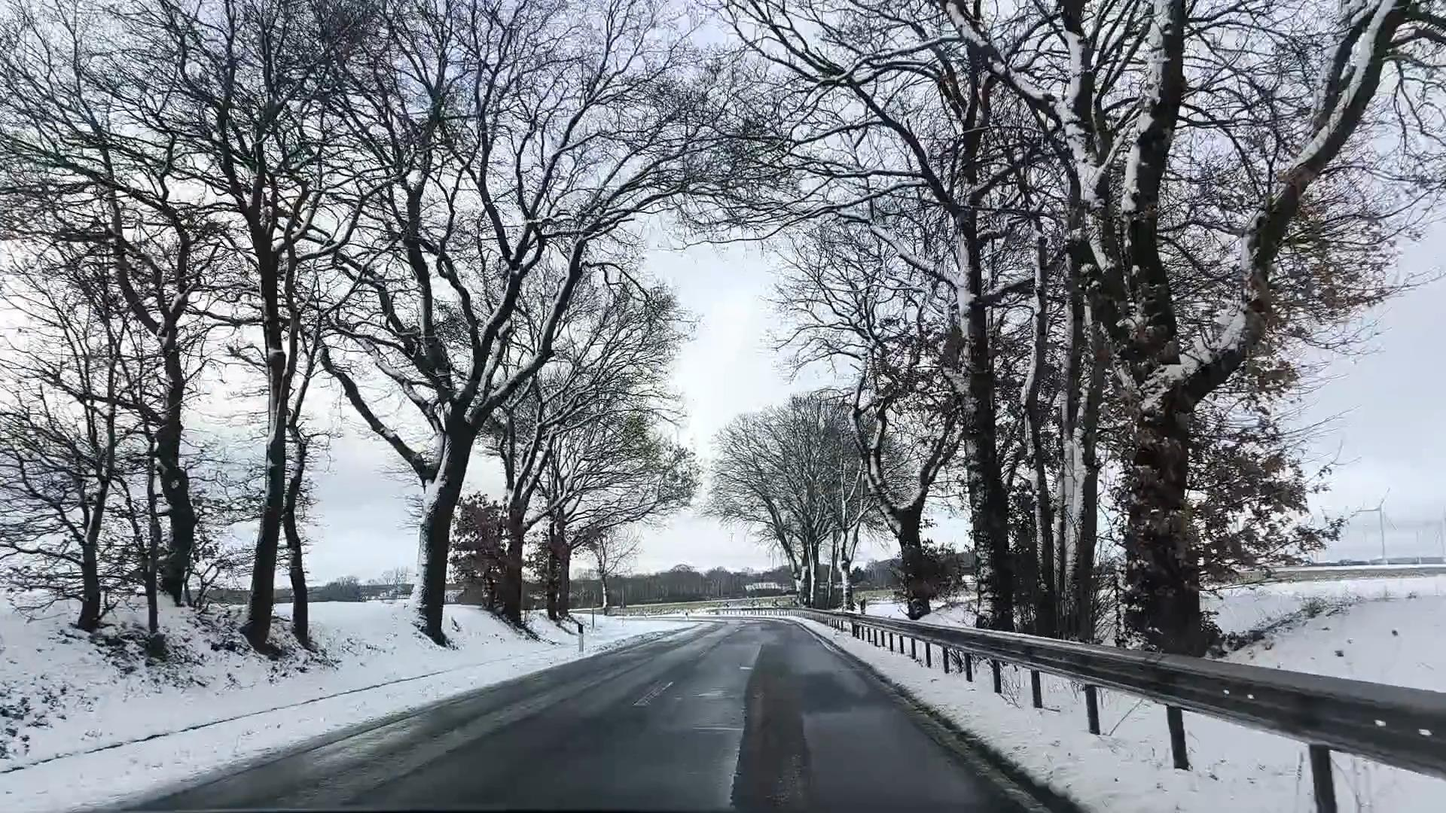Snow: (0, 597, 691, 812), (798, 607, 1446, 813)
wet: (127, 617, 1072, 813)
